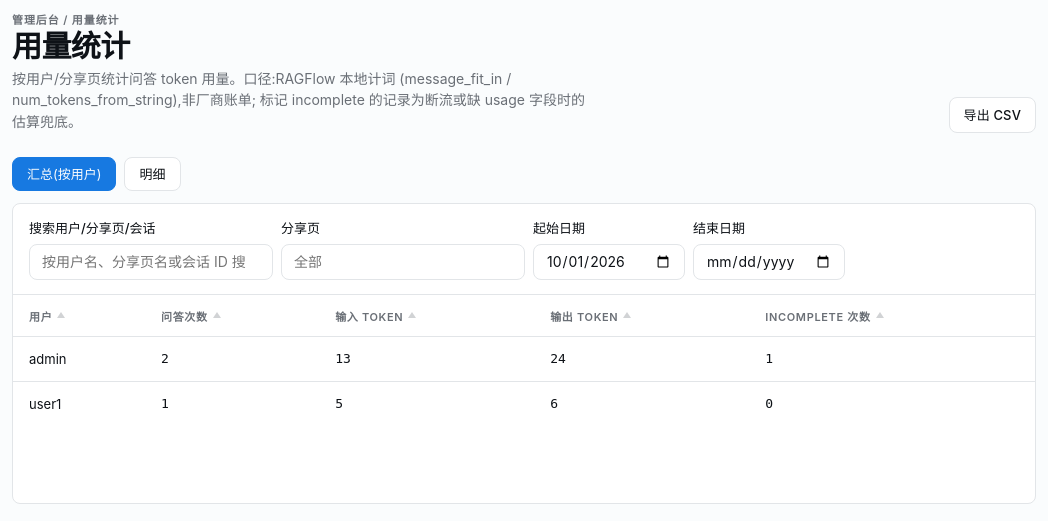
UsageStatsAdminPage › 明细视图逐条展示记录(时间/用户/分享页/会话/token/incomplete 标记)
Check: the row with test id "usage-summary-row-u_admin" is shown, box [13,336,1035,382]
Step 1. Click the tab "明细" → (152, 174), box [124,157,180,191]
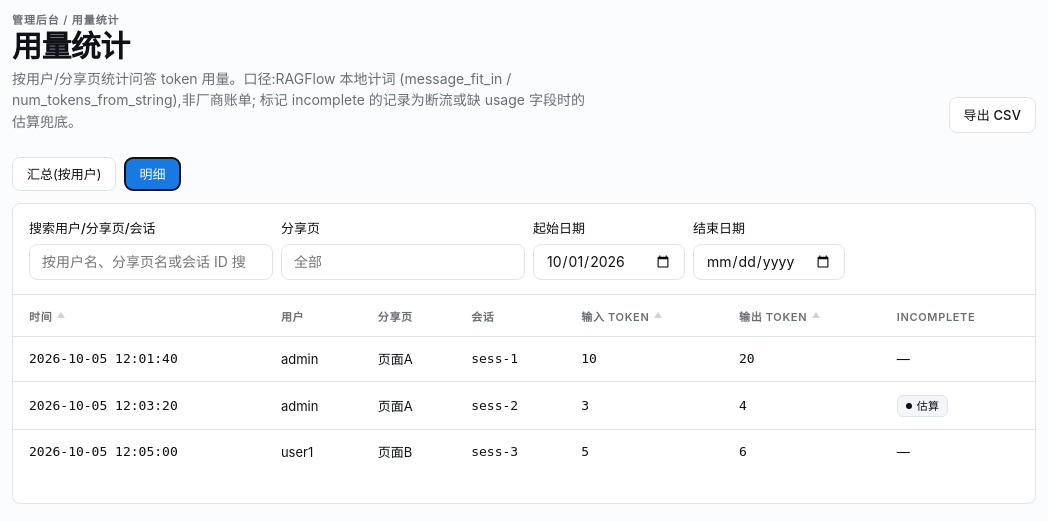
Check: the text "页面B" is shown, box [362,430,455,474]
Check: the text "sess-3" is shown, box [455,430,565,474]
Check: the text "估算" is shown, box [897,395,948,417]
